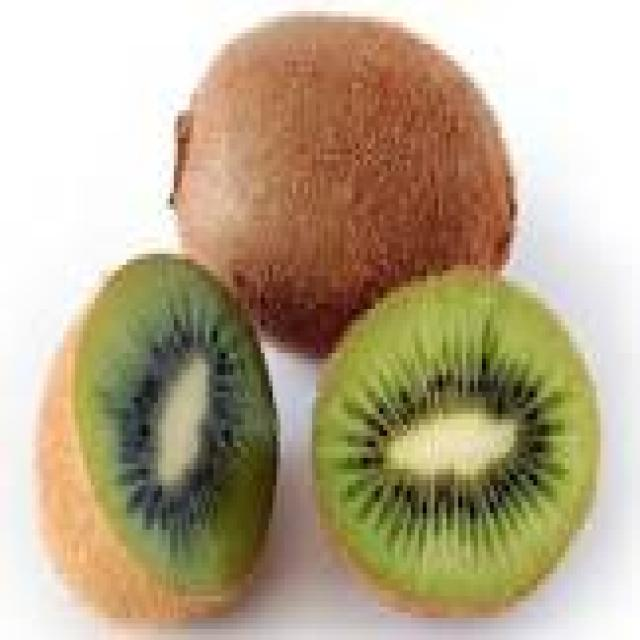kivi: (171, 16, 514, 353), (316, 272, 599, 609), (39, 257, 276, 614)
